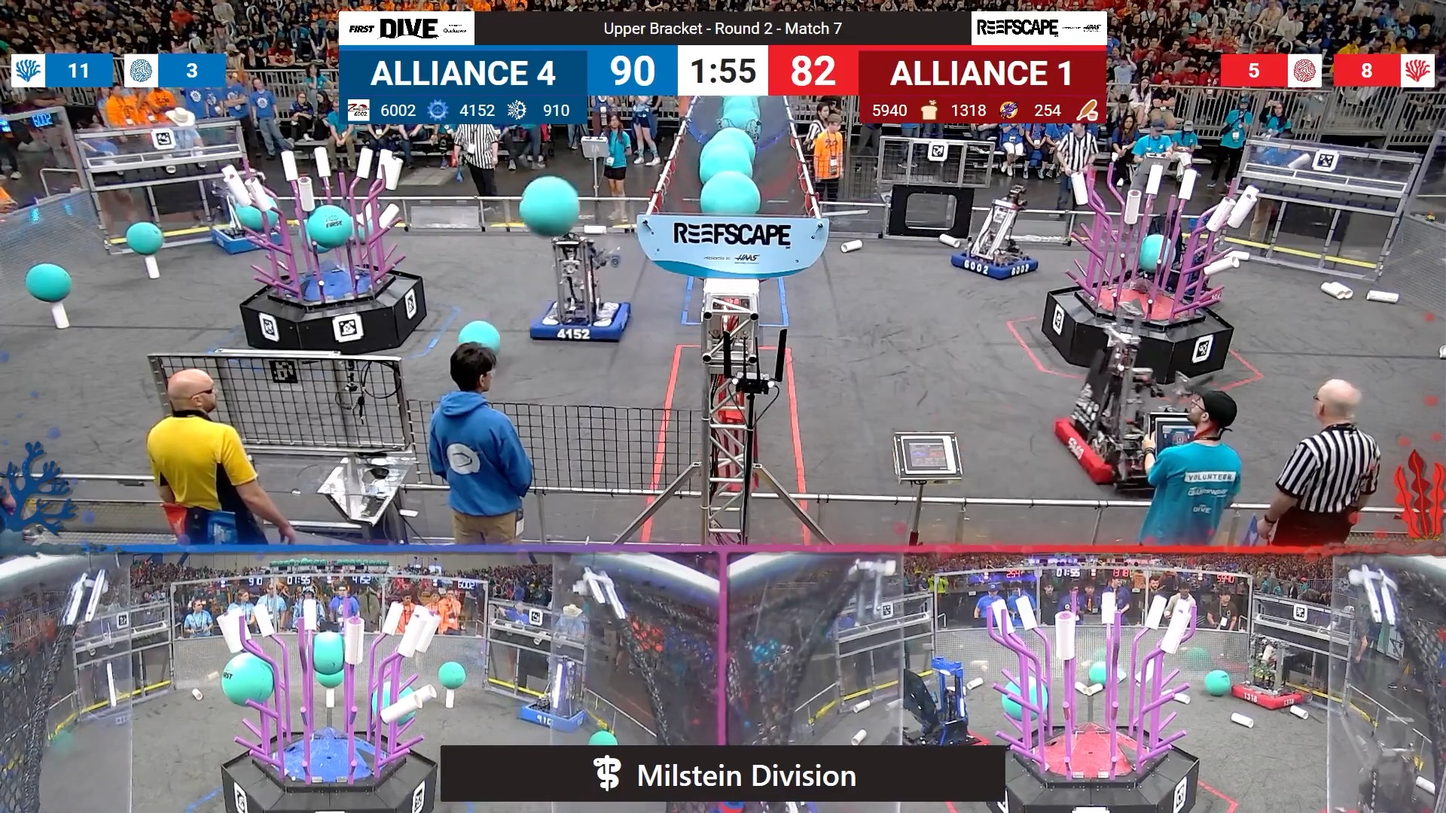bumpers: (1046, 417, 1175, 490), (528, 297, 639, 347), (943, 249, 1044, 283), (206, 219, 288, 256), (512, 699, 593, 735), (1224, 682, 1308, 713)
